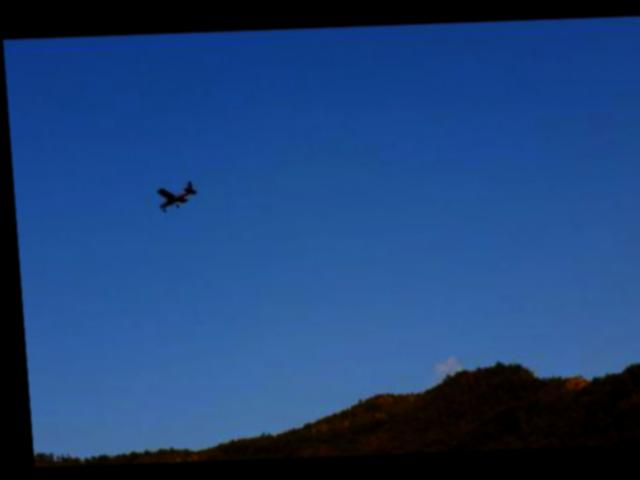uav: (148, 180, 196, 212)
